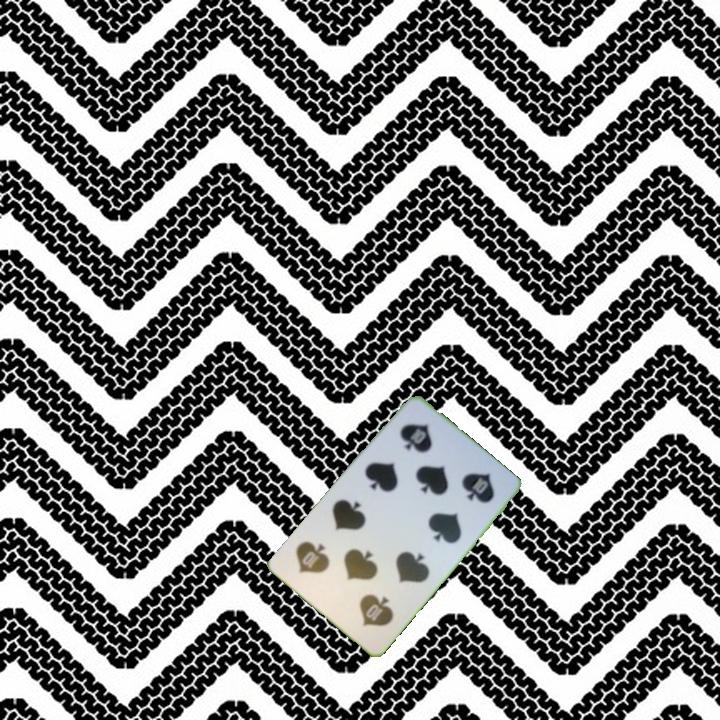s_10.png: (378, 404, 464, 489), (326, 561, 412, 646)
